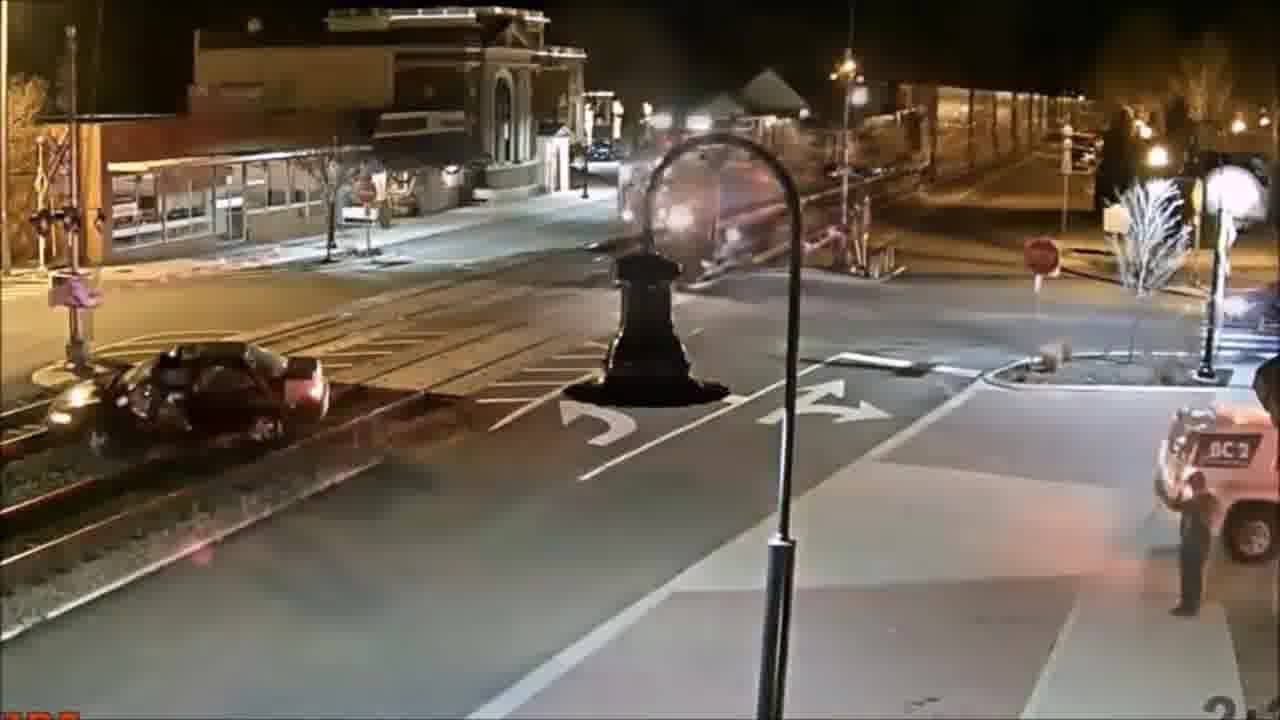crossing railway track: (44, 326, 329, 476)
